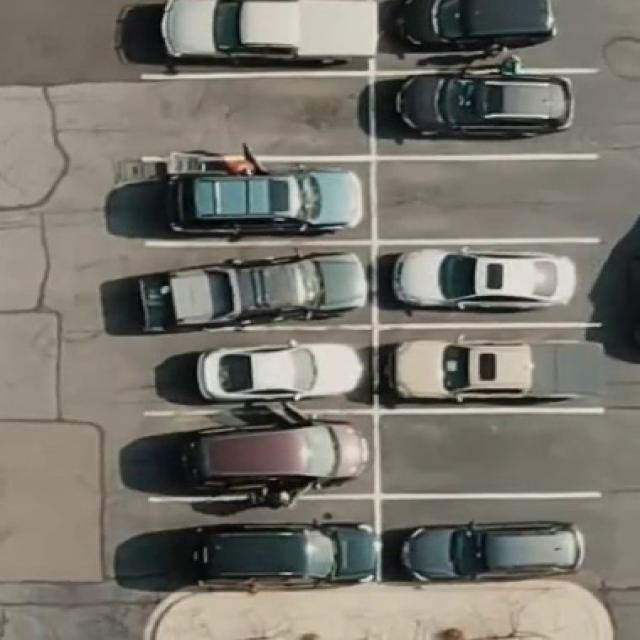empty: (148, 84, 363, 149), (386, 420, 600, 485), (385, 167, 592, 231)
notEmpty: (148, 415, 372, 492), (145, 334, 370, 407), (382, 76, 598, 152), (388, 332, 606, 403), (387, 247, 598, 319), (390, 506, 600, 578), (146, 254, 369, 321), (157, 512, 373, 580), (148, 2, 362, 69), (149, 168, 364, 234), (385, 1, 588, 65)
